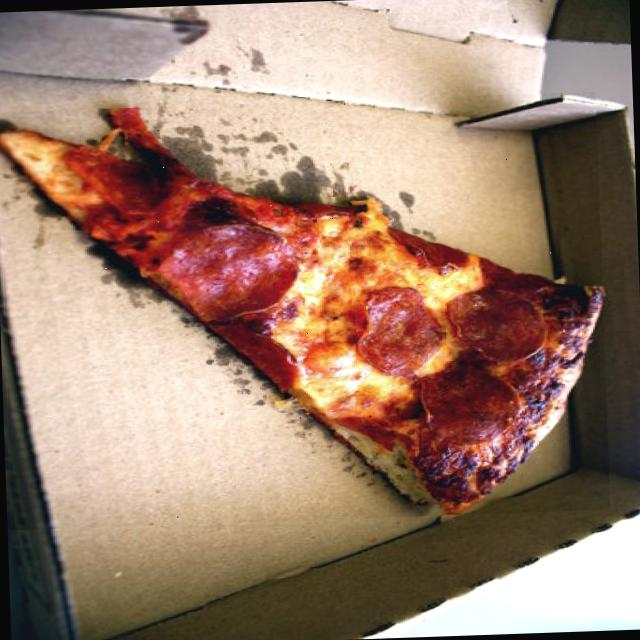pepperoni: (158, 214, 302, 320), (416, 357, 524, 449), (354, 282, 445, 373), (440, 286, 544, 364), (204, 316, 302, 393)
pizza: (0, 107, 601, 513)
